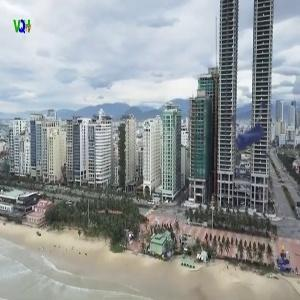drone: (197, 80, 296, 179)
